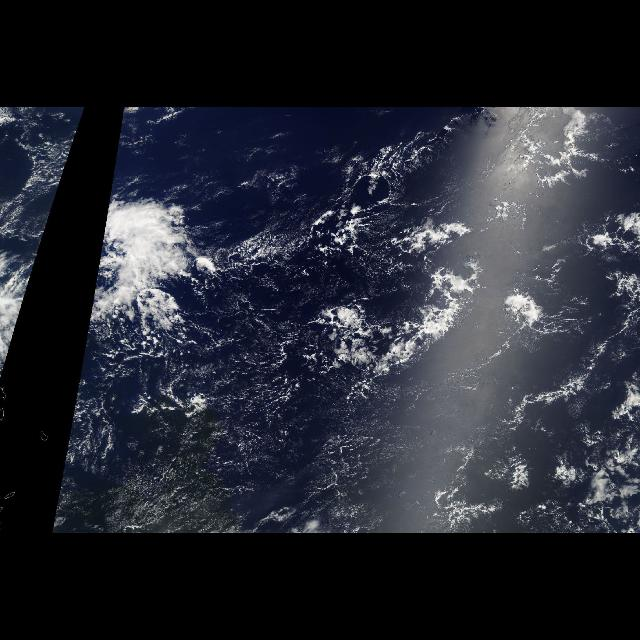Sugar: (70, 302, 470, 532)
